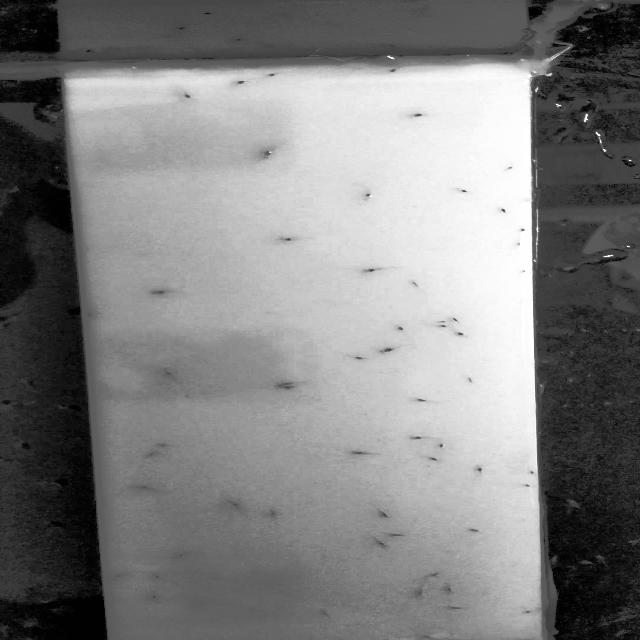shrimp: (176, 88, 204, 104), (406, 107, 426, 126), (458, 370, 481, 386), (355, 264, 384, 276), (401, 278, 429, 290), (454, 184, 477, 198), (342, 351, 365, 365), (370, 537, 396, 549), (350, 447, 375, 459), (379, 64, 400, 78), (155, 368, 179, 380), (225, 498, 246, 511), (424, 568, 445, 581), (497, 207, 517, 220), (261, 70, 284, 81), (152, 285, 172, 297), (81, 309, 101, 321), (408, 430, 428, 442), (520, 479, 540, 491), (110, 569, 130, 581), (469, 463, 487, 476), (507, 239, 530, 249), (496, 160, 515, 172), (264, 508, 283, 520), (392, 527, 408, 541), (257, 147, 277, 158), (439, 585, 461, 595), (273, 384, 300, 392), (138, 482, 156, 494), (520, 465, 538, 477), (196, 596, 214, 608), (434, 438, 449, 452), (281, 233, 300, 244), (314, 609, 340, 617), (359, 189, 376, 201), (449, 316, 466, 328), (463, 526, 483, 536), (232, 78, 250, 89), (427, 453, 445, 464), (172, 551, 190, 562), (414, 394, 429, 407), (374, 510, 393, 520), (147, 592, 168, 601), (144, 451, 165, 459), (433, 315, 448, 326), (268, 381, 300, 386), (432, 323, 452, 331), (156, 440, 172, 450), (411, 588, 427, 598), (446, 604, 466, 612), (418, 632, 438, 640), (455, 330, 470, 340), (378, 346, 399, 353), (392, 324, 408, 333), (152, 574, 169, 582), (521, 608, 535, 617)
